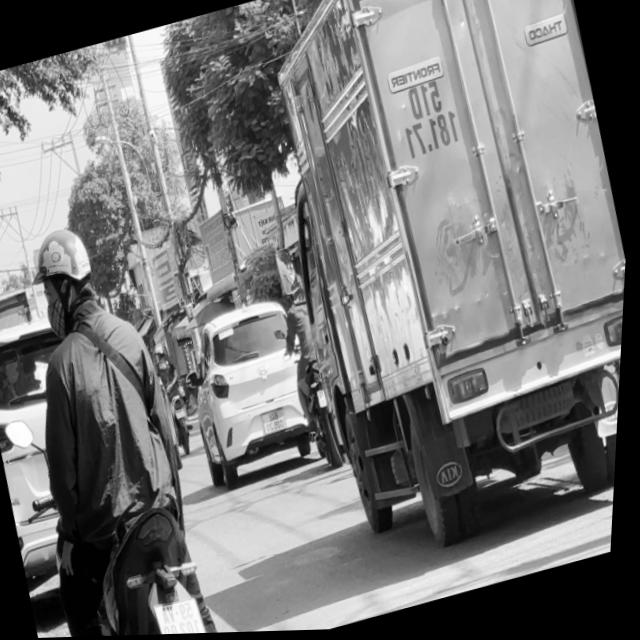helmet: (27, 220, 109, 330)
licenseplate: (0, 194, 264, 640), (264, 263, 359, 474)
nohelmet: (159, 594, 214, 636)
